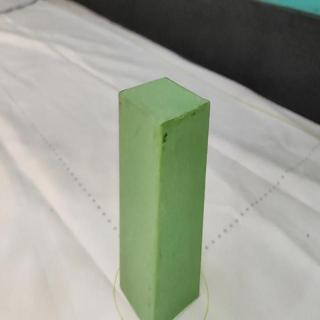greenbox: (117, 75, 212, 320)
